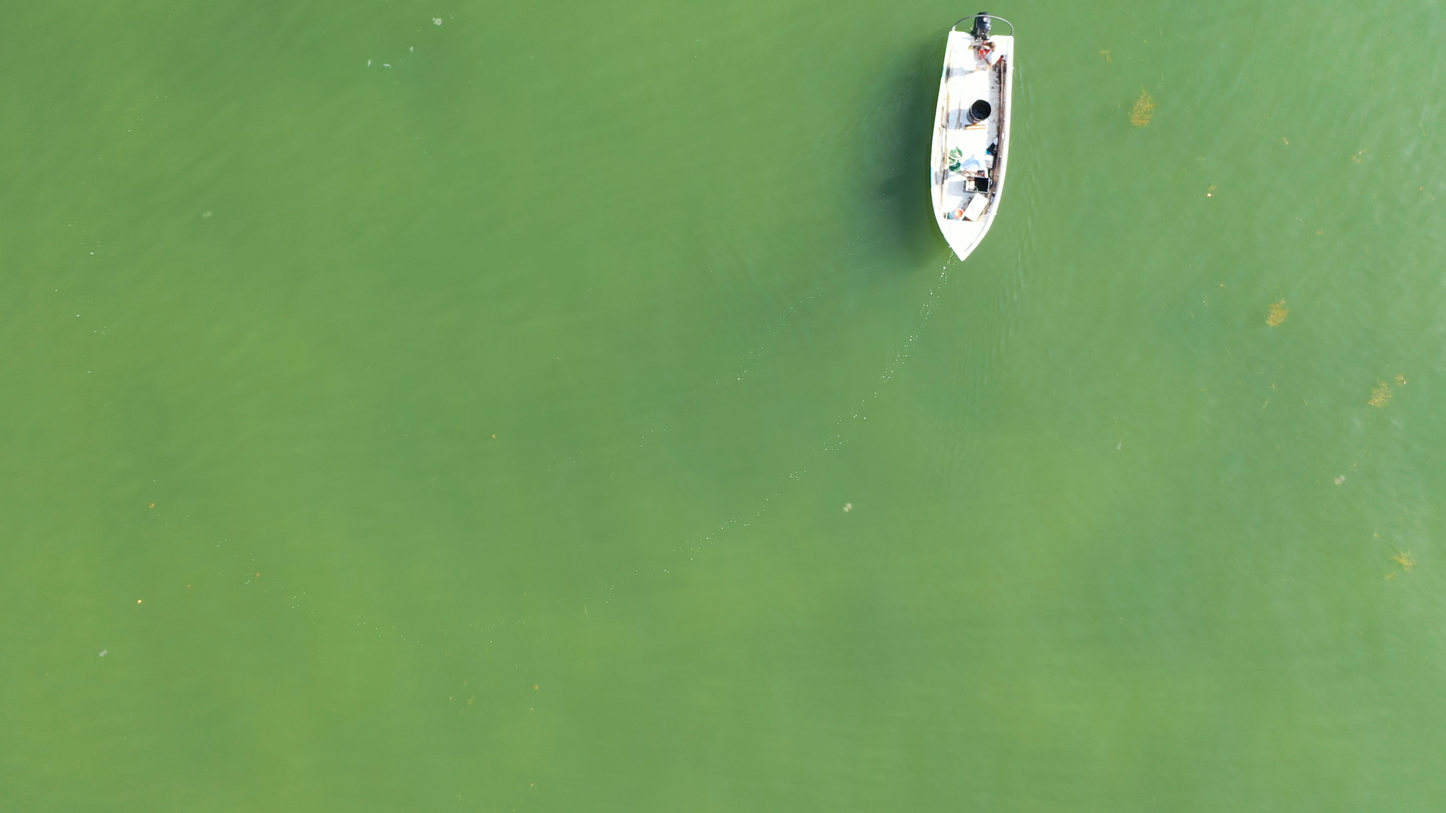meduse: (1335, 475, 1346, 484), (203, 209, 211, 218), (845, 503, 853, 512), (98, 649, 106, 657), (1117, 443, 1123, 449)
